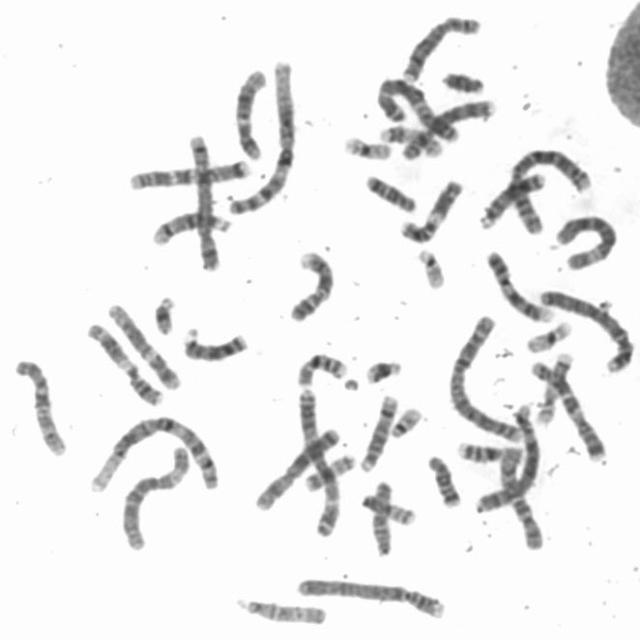A1: (223, 58, 302, 217), (86, 415, 219, 495)
A2: (446, 312, 515, 444), (506, 147, 596, 236)
A3: (294, 385, 345, 540), (372, 74, 461, 147)
B4: (532, 287, 637, 374), (291, 575, 448, 621)
B5: (472, 404, 545, 522), (183, 130, 224, 274)
C10: (8, 352, 68, 460), (497, 446, 547, 553)
C11: (85, 311, 172, 404), (391, 181, 463, 244)
C12: (105, 301, 186, 393), (230, 69, 269, 166)
C6: (120, 442, 194, 554), (547, 212, 617, 271)
C7: (528, 352, 608, 464), (128, 155, 255, 196)
C8: (398, 98, 498, 164), (400, 14, 482, 80)
C9: (481, 252, 552, 323), (287, 250, 336, 323)
D13: (472, 172, 545, 228), (181, 328, 250, 364)
D14: (142, 210, 231, 249), (356, 394, 398, 474)
D15: (236, 596, 328, 628), (368, 483, 400, 556)
E16: (452, 436, 521, 467), (292, 351, 347, 388)
E17: (535, 350, 577, 429), (375, 120, 447, 157)
E18: (358, 173, 419, 216), (423, 451, 463, 511)
F19: (519, 321, 572, 356), (342, 134, 392, 162)
F20: (300, 453, 360, 492), (358, 492, 418, 528)
G21: (148, 292, 179, 340), (361, 358, 404, 385)
G22: (411, 246, 446, 292), (387, 405, 422, 440)
X: (250, 427, 346, 512)
Y: (436, 70, 487, 97)
